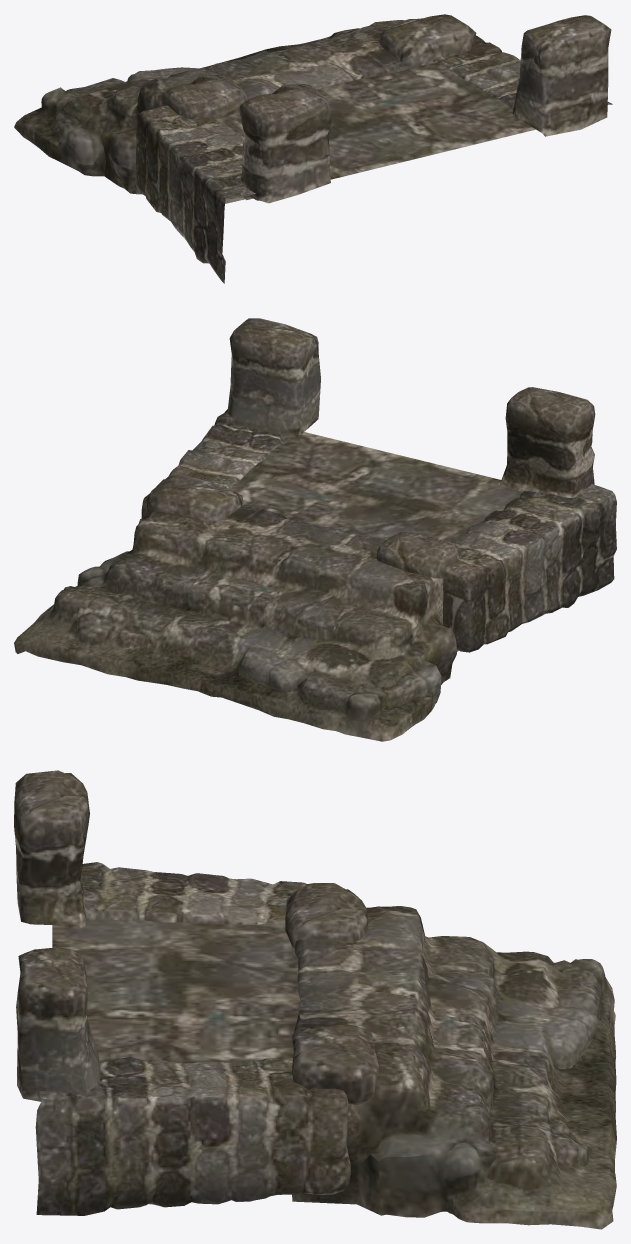
File: Stair_Tavern-transformed.glb
3 views of the same model, one above another, from view 1: azimuth 30°, elevation 25°; view 2: azimuth 150°, elevation 25°; view 3: azimuth 270°, elevation 25° (orthographic). The views are drawn at different scales.
Visible parts, largest first — view 1: default; view 2: default; view 3: default.
Boxes of the visible parts, box(x1,y1,x2,y2) form: default: box(14, 14, 612, 283); default: box(14, 318, 616, 741); default: box(14, 770, 616, 1229).
Size of the model in its own units: 4.52 by 2.03 by 4.61.
1 material, 1 textured.
